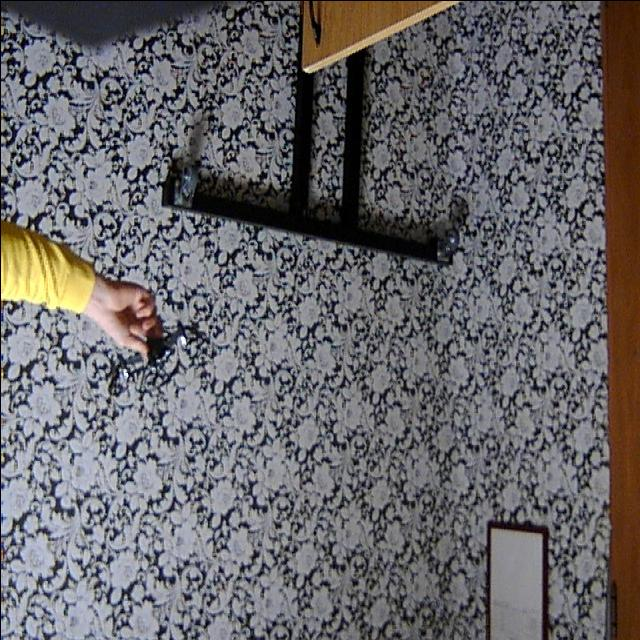drone: (100, 321, 218, 396)
